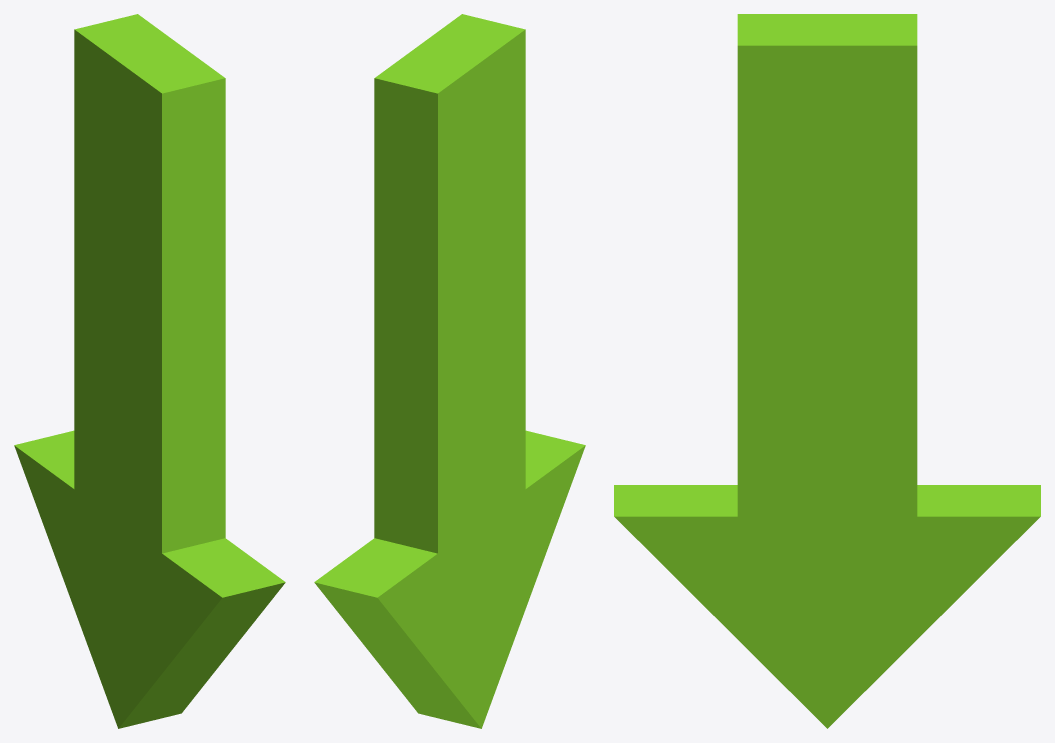
3 renders of one model, left to right at view 1: azimuth 30°, elevation 25°; view 2: azimuth 150°, elevation 25°; view 3: azimuth 270°, elevation 25°, orthographic. The views are drawn at different scales.
Parts seen in each view (by area): view 1: ok; view 2: ok; view 3: ok.
Part boxes in pixels (x1,y1,x2,y2): ok: (14, 14, 285, 728); ok: (314, 14, 585, 728); ok: (614, 14, 1040, 728).
Bounding box in the file's own units: 83.45 × 840 × 475.
